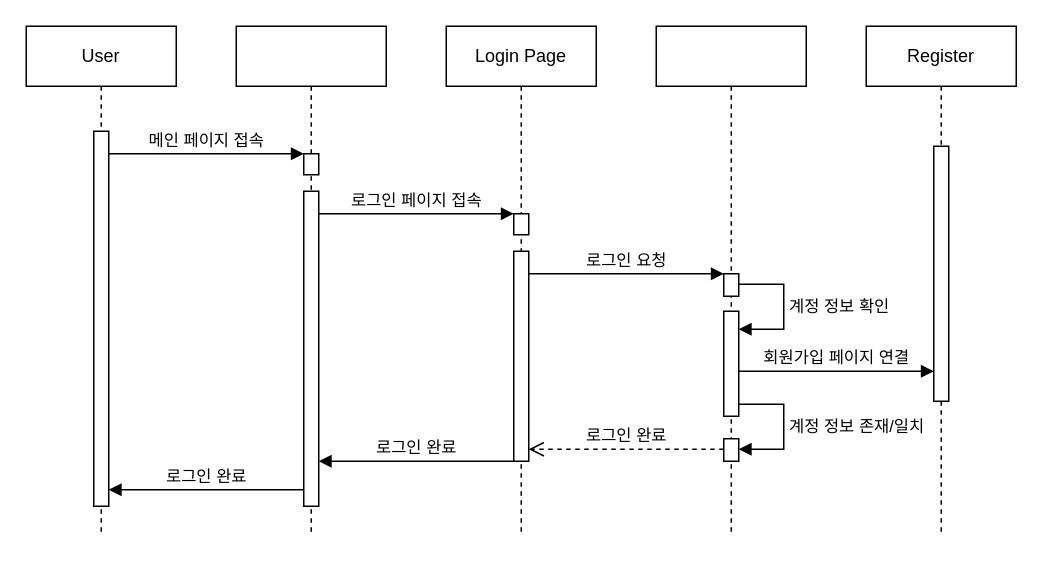
Image size: 1043x563. Some labels were removed from this diagram. The shapes that lost their labels are listed below. From the top down, each one's box as (x1, y1, x2, y2) in pixels, then its label:
(235, 25, 386, 536): Main Page
(655, 25, 806, 536): Server
